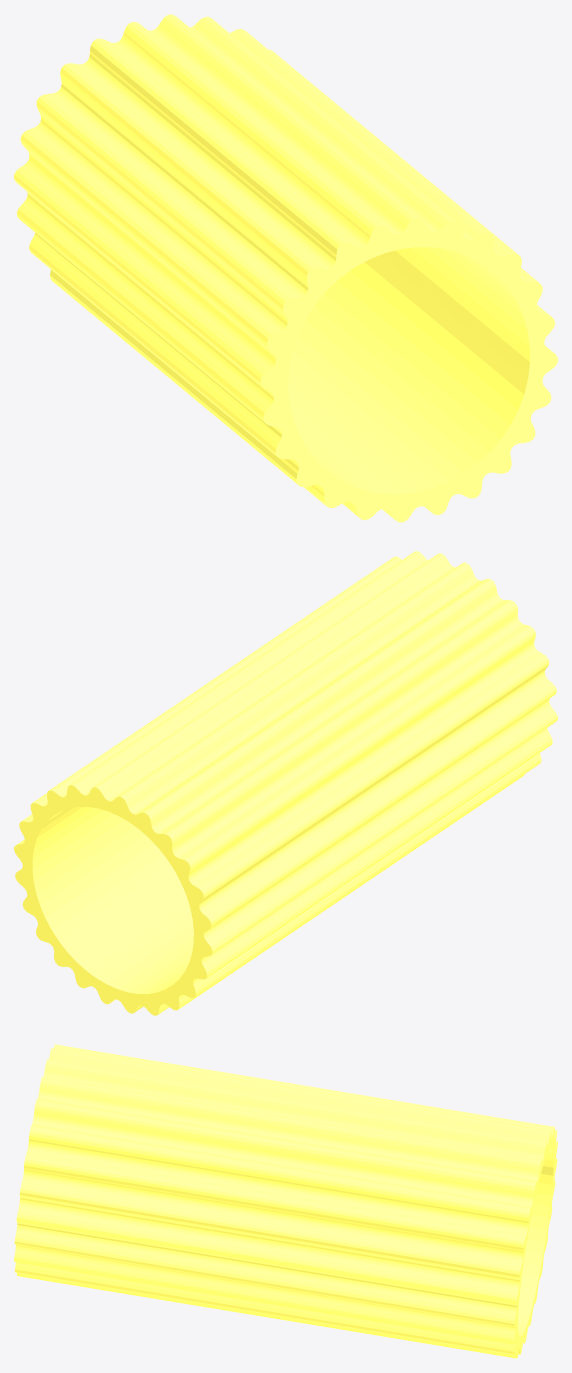
File: Rigatoni.002.gltf
3 views of the same model, one above another, from view 1: azimuth 30°, elevation 25°; view 2: azimuth 150°, elevation 25°; view 3: azimuth 270°, elevation 25° (orthographic). The views are drawn at different scales.
Visible parts, largest first — view 1: Rigatoni.002; view 2: Rigatoni.002; view 3: Rigatoni.002.
Boxes of the visible parts, x1=… form: Rigatoni.002: x1=14, y1=14, x2=557, y2=522; Rigatoni.002: x1=14, y1=551, x2=557, y2=1015; Rigatoni.002: x1=14, y1=1044, x2=557, y2=1358.
Size of the model in its own units: 1.8 by 1.67 by 3.17.
